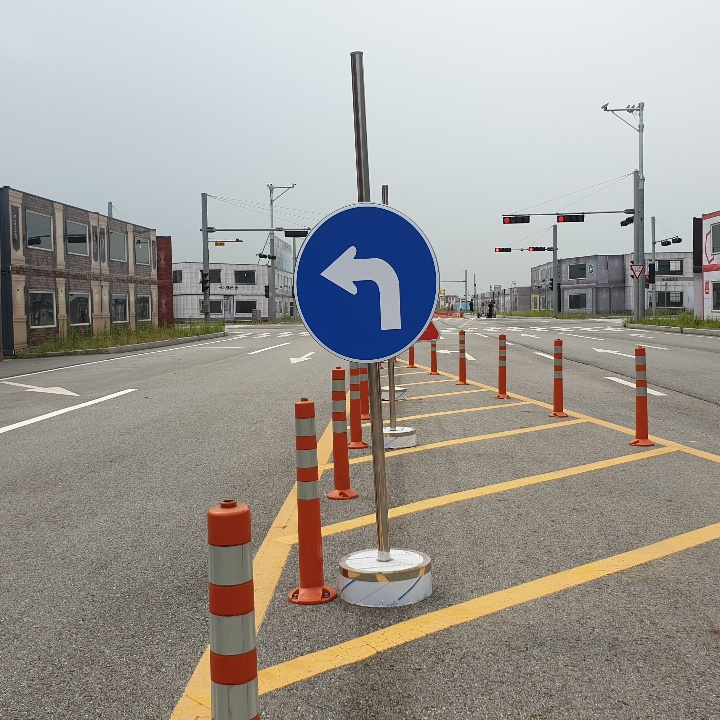left: (314, 242, 410, 334)
